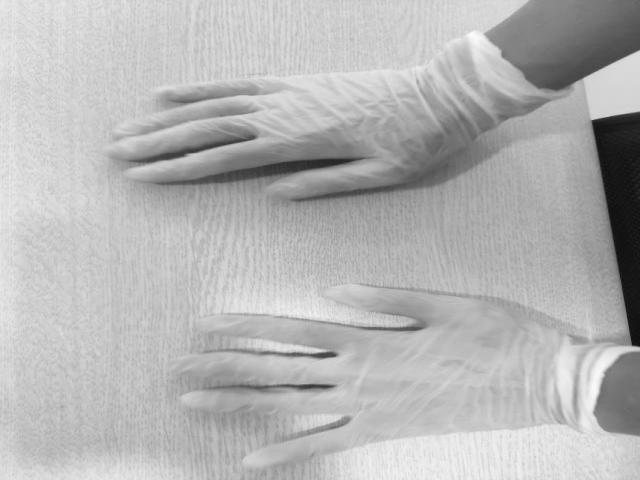gloved: (184, 284, 549, 466), (113, 64, 446, 201)
